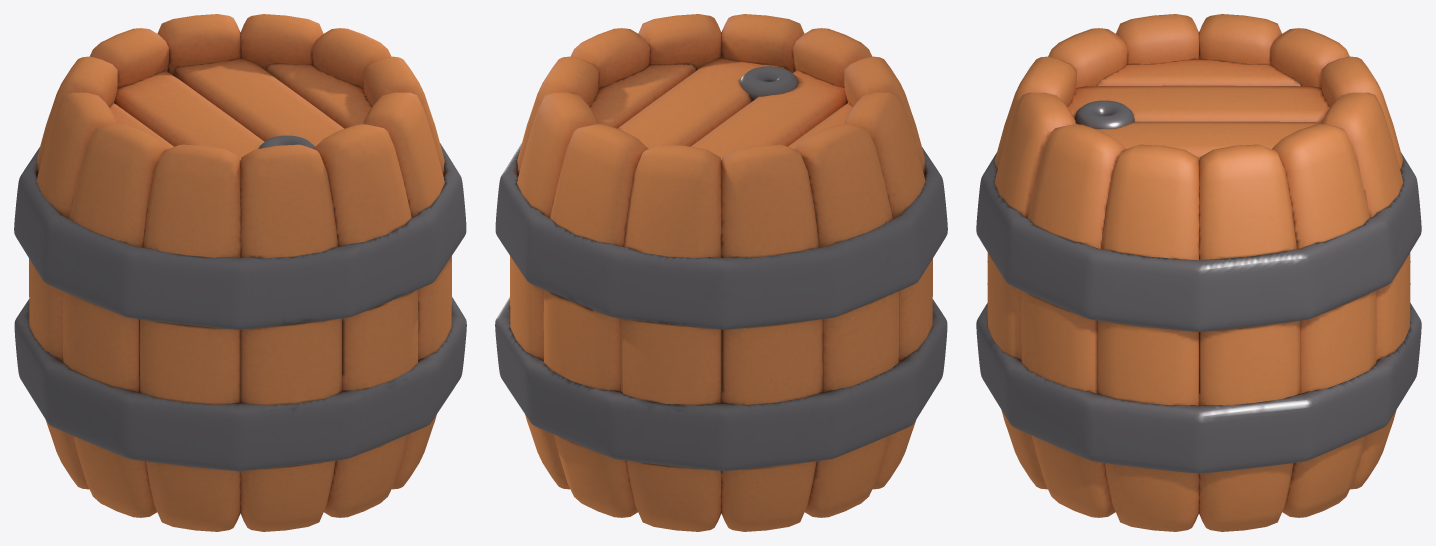
File: barrel2.glb
The picture shows the model from 3 angles, left to right: view 1: azimuth 30°, elevation 25°; view 2: azimuth 150°, elevation 25°; view 3: azimuth 270°, elevation 25°; orthographic projection.
Visible parts, largest first — view 1: Circle.006, metal1, metal2, Circle.003; view 2: Circle.006, metal1, metal2, Circle.003, Torus; view 3: Circle.006, metal1, metal2, Circle.003, Torus.
Part boxes in pixels (box(x1,y1,x2,y2)): Circle.006: box(29, 14, 451, 531); metal1: box(14, 143, 466, 329); metal2: box(14, 297, 466, 471); Circle.003: box(109, 58, 372, 160); Circle.006: box(510, 14, 932, 531); metal1: box(495, 143, 947, 329); metal2: box(495, 297, 947, 471); Circle.003: box(589, 58, 852, 160); Torus: box(740, 66, 798, 101); Circle.006: box(987, 14, 1410, 531); metal1: box(976, 152, 1421, 331); metal2: box(976, 303, 1421, 473); Circle.003: box(1067, 59, 1330, 159); Torus: box(1074, 100, 1134, 128).
Size of the model in its own units: 1.61 by 1.48 by 1.57.
Materials: 4 (4 with a texture image).
